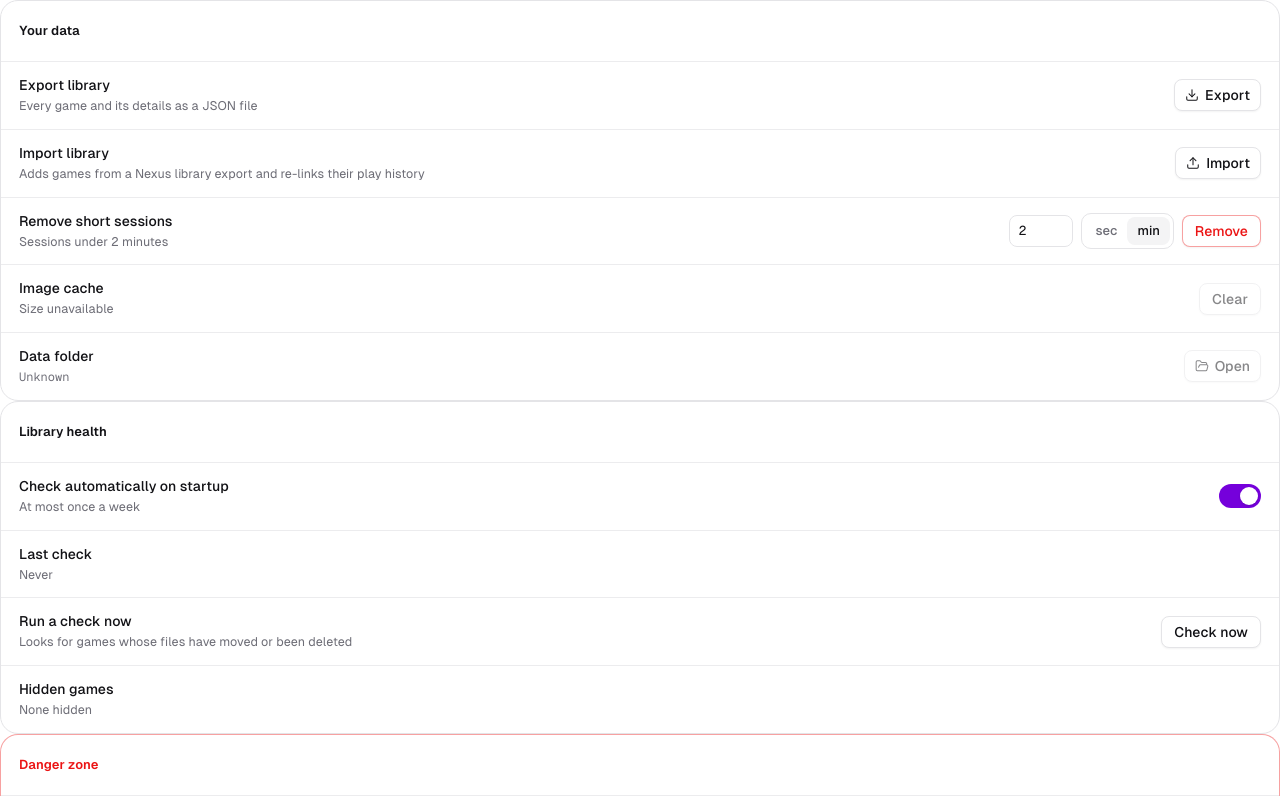
it: v1 Data & health settings › runs a check and lists missing games with their fixes
Click the button with test id "run-health-check" at point(1211, 632), box x1=1161 y1=616 x2=1261 y2=648
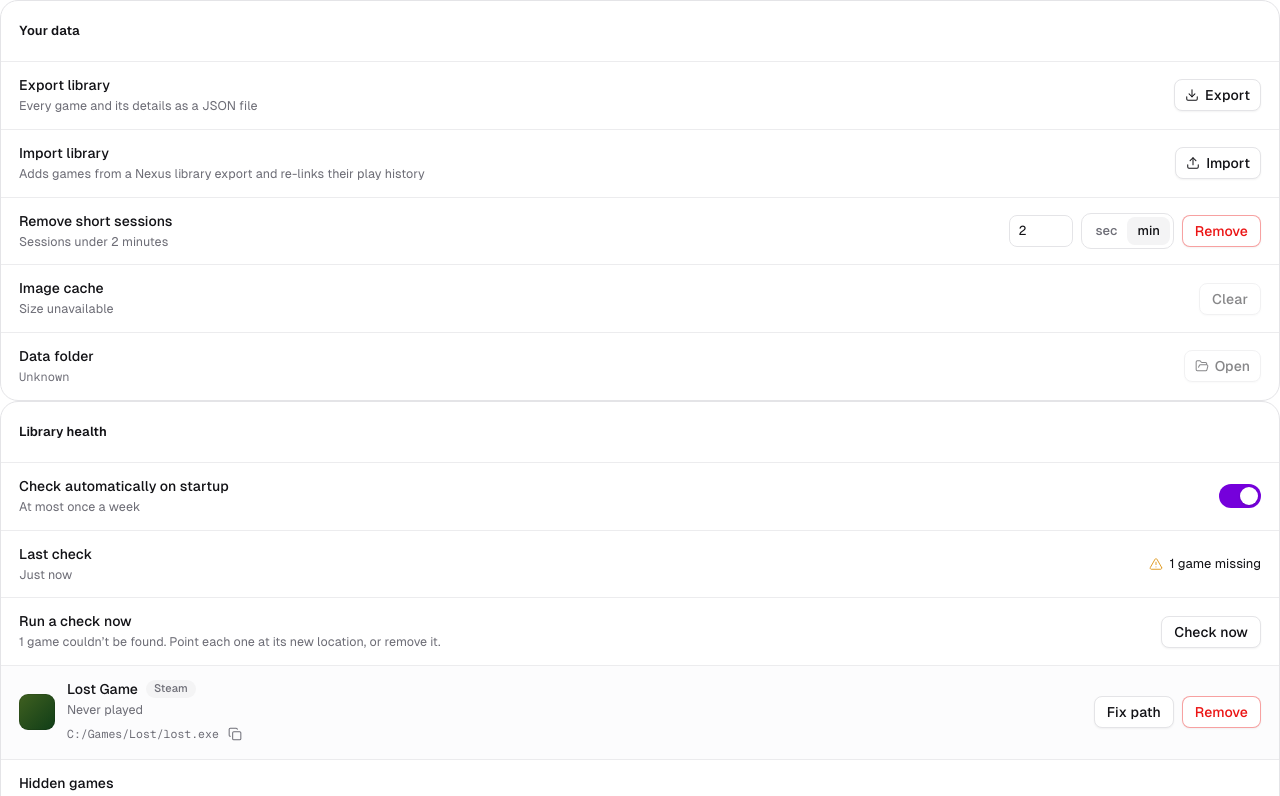
Expected: the element with test id "dead-game-row-d1" shows "Lost Game", x1=67 y1=681 x2=138 y2=697
Expected: the element with test id "health-summary" reads "1 game missing", x1=1169 y1=556 x2=1261 y2=571
Click the button with test id "dead-game-remove-d1" at point(1221, 712), box x1=1182 y1=696 x2=1261 y2=728
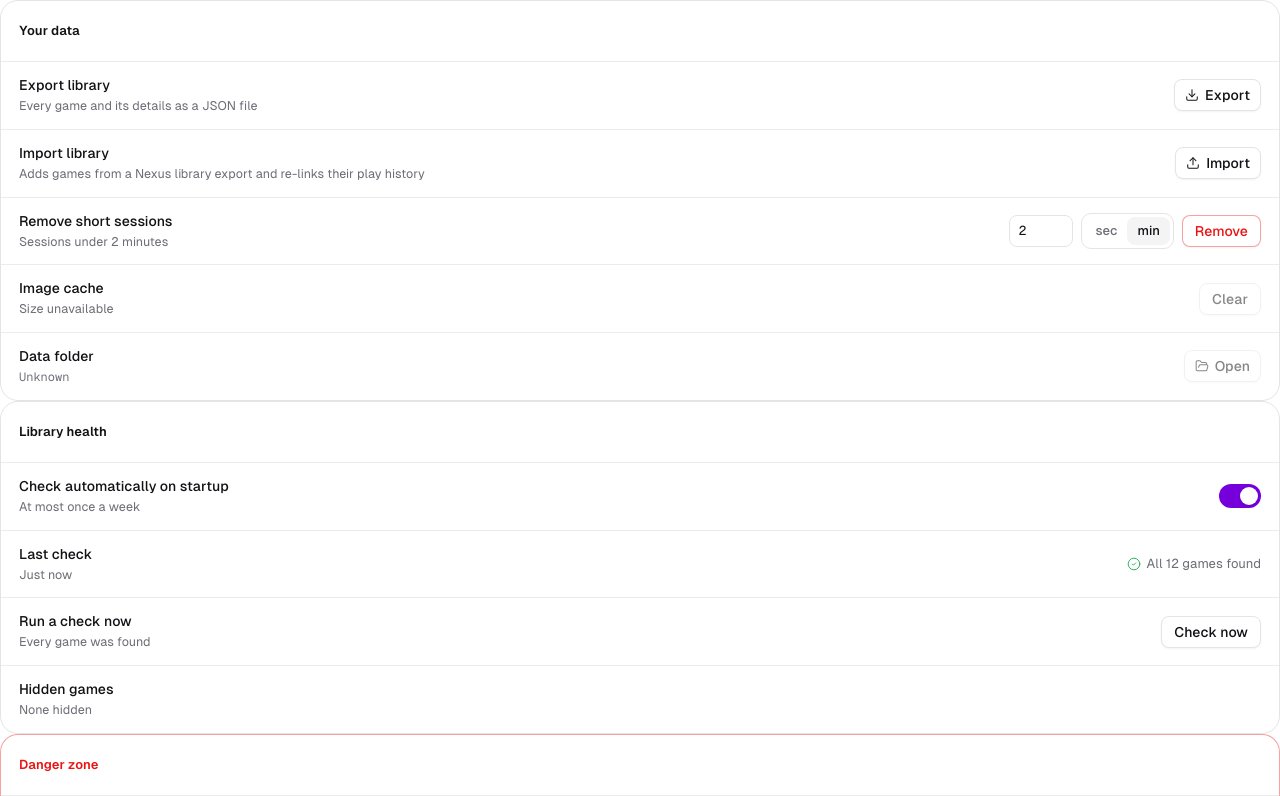
Expected: the element with test id "dead-game-row-d1" is gone
